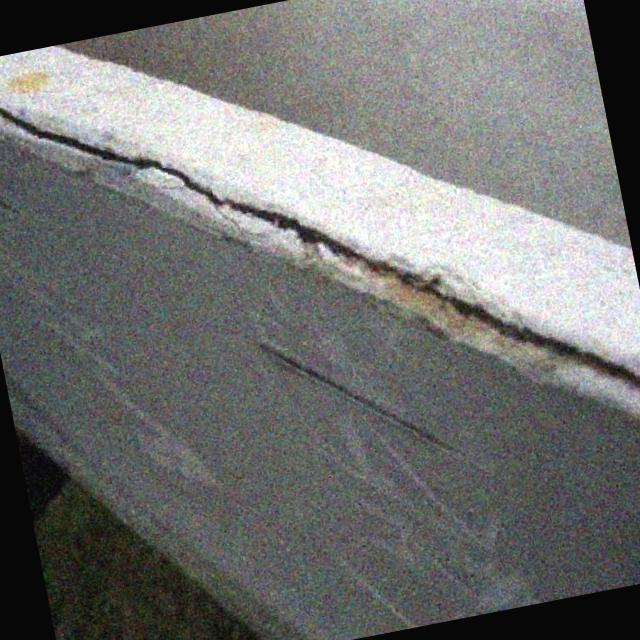crack: (208, 160, 438, 330), (440, 255, 640, 424), (70, 119, 210, 225), (0, 74, 66, 162)
